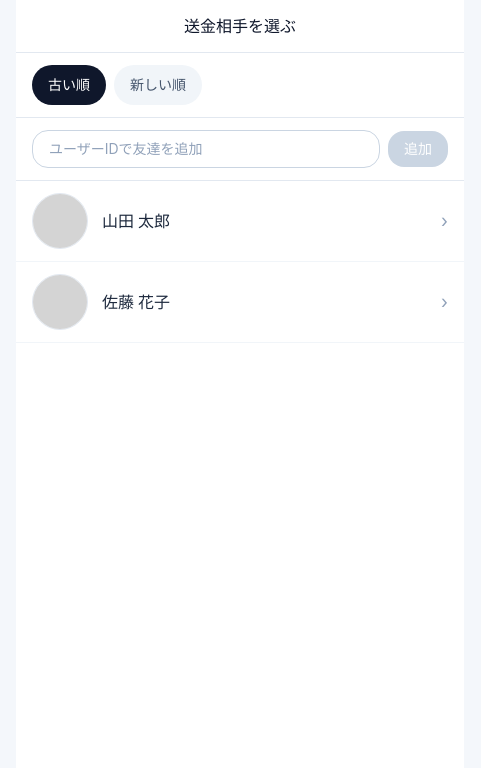
Test: RecipientSelectionScreen › 並び順を切り替えると先頭から取り直す
The width and height of the screenshot is (481, 768).
Expected: the button "山田 太郎 ›" is shown, x1=16 y1=181 x2=464 y2=261
Click the button "新しい順".
click(158, 85)  # box x1=114 y1=65 x2=202 y2=105
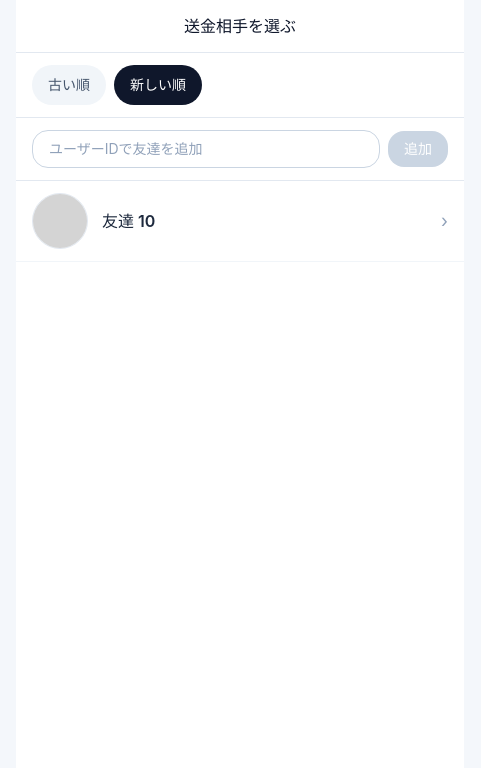
Now the button "友達 10 ›" is shown, box x1=16 y1=181 x2=464 y2=261
